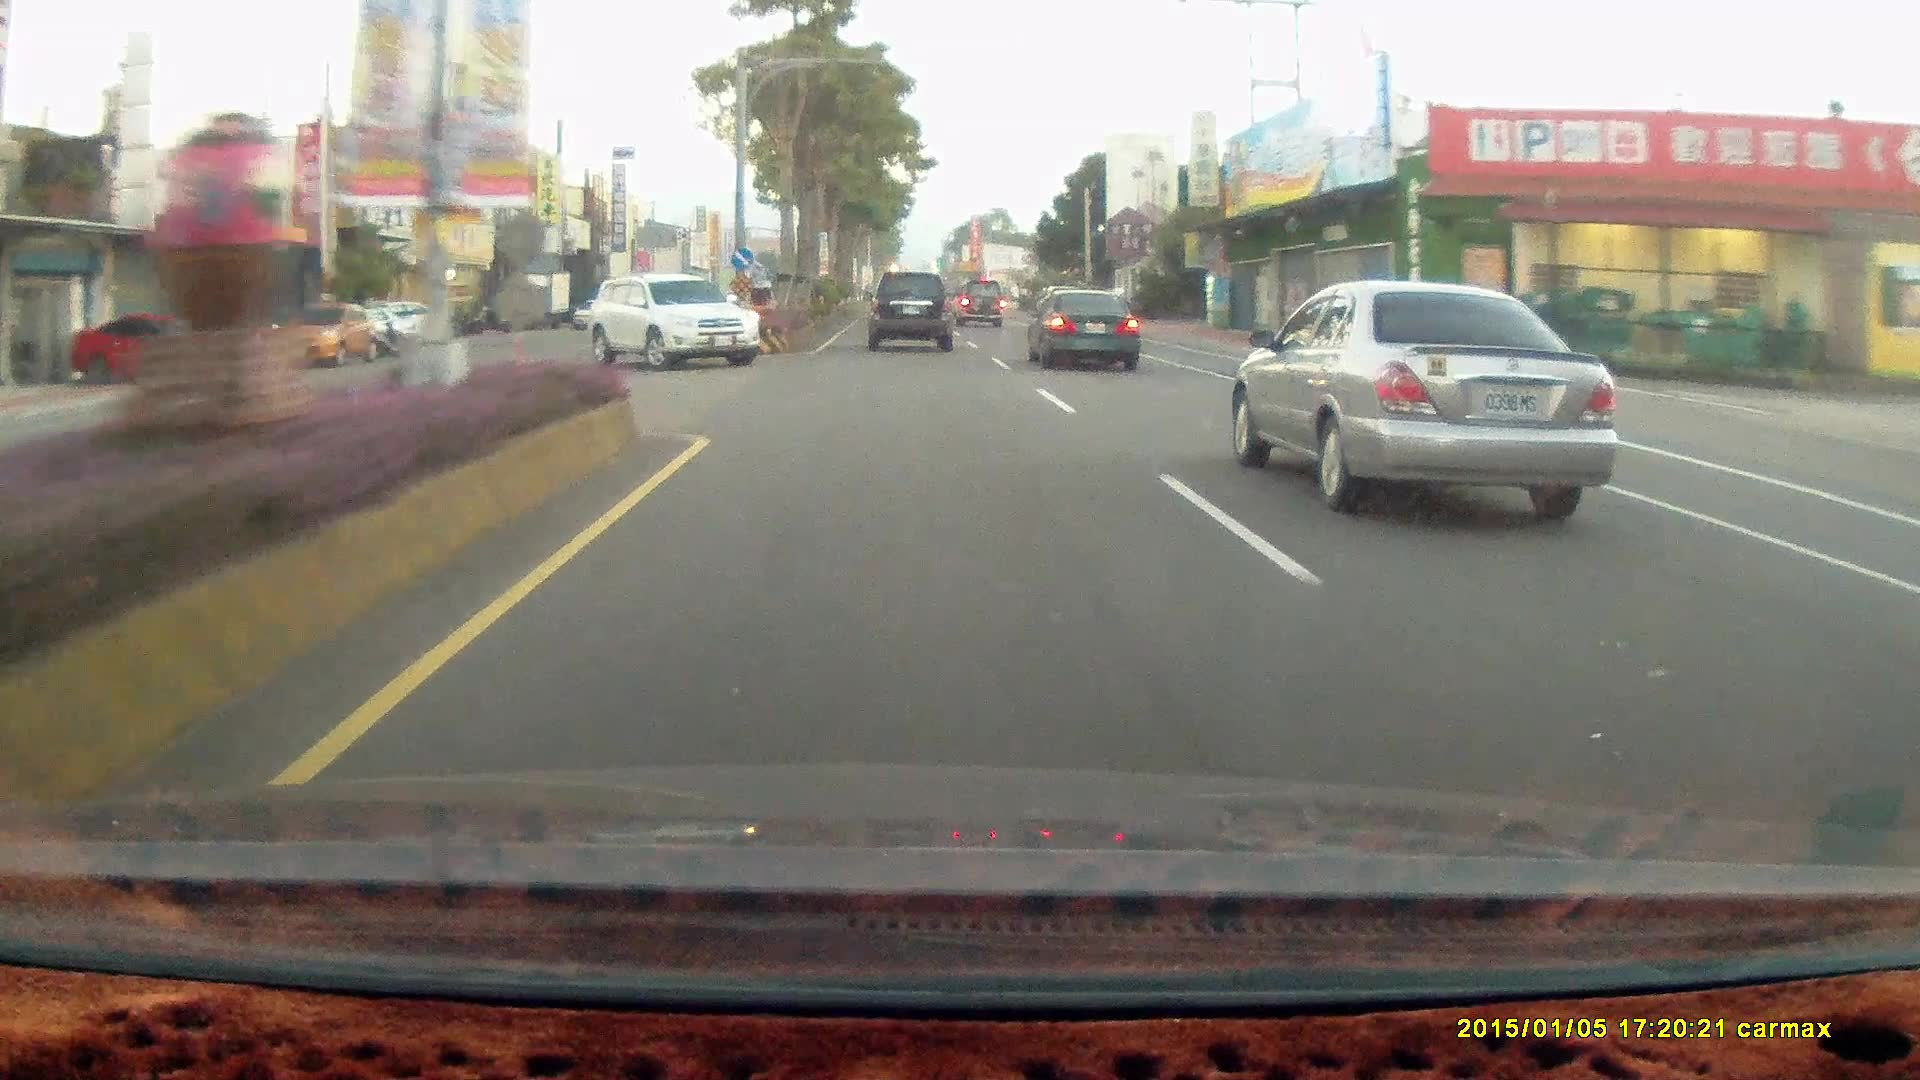vehicle: (1225, 276, 1621, 524), (583, 269, 762, 368), (585, 273, 764, 372), (55, 310, 257, 392), (70, 309, 258, 382), (1025, 285, 1139, 371), (1029, 287, 1141, 375), (865, 272, 961, 355), (274, 302, 382, 369), (274, 301, 380, 368), (866, 272, 951, 349), (345, 299, 448, 348), (953, 280, 1007, 328)
